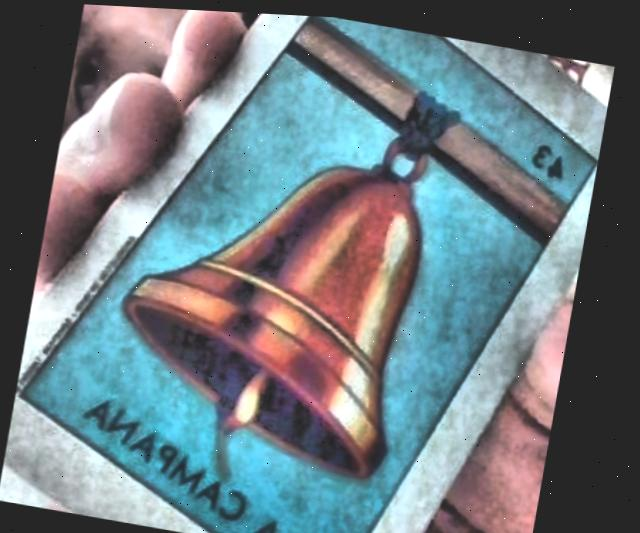La Campana: (26, 13, 598, 533)
